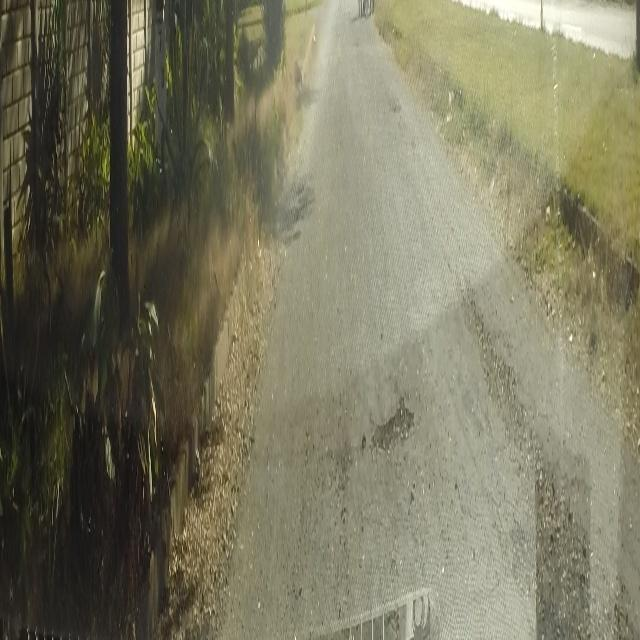pothole: (368, 396, 417, 452)
